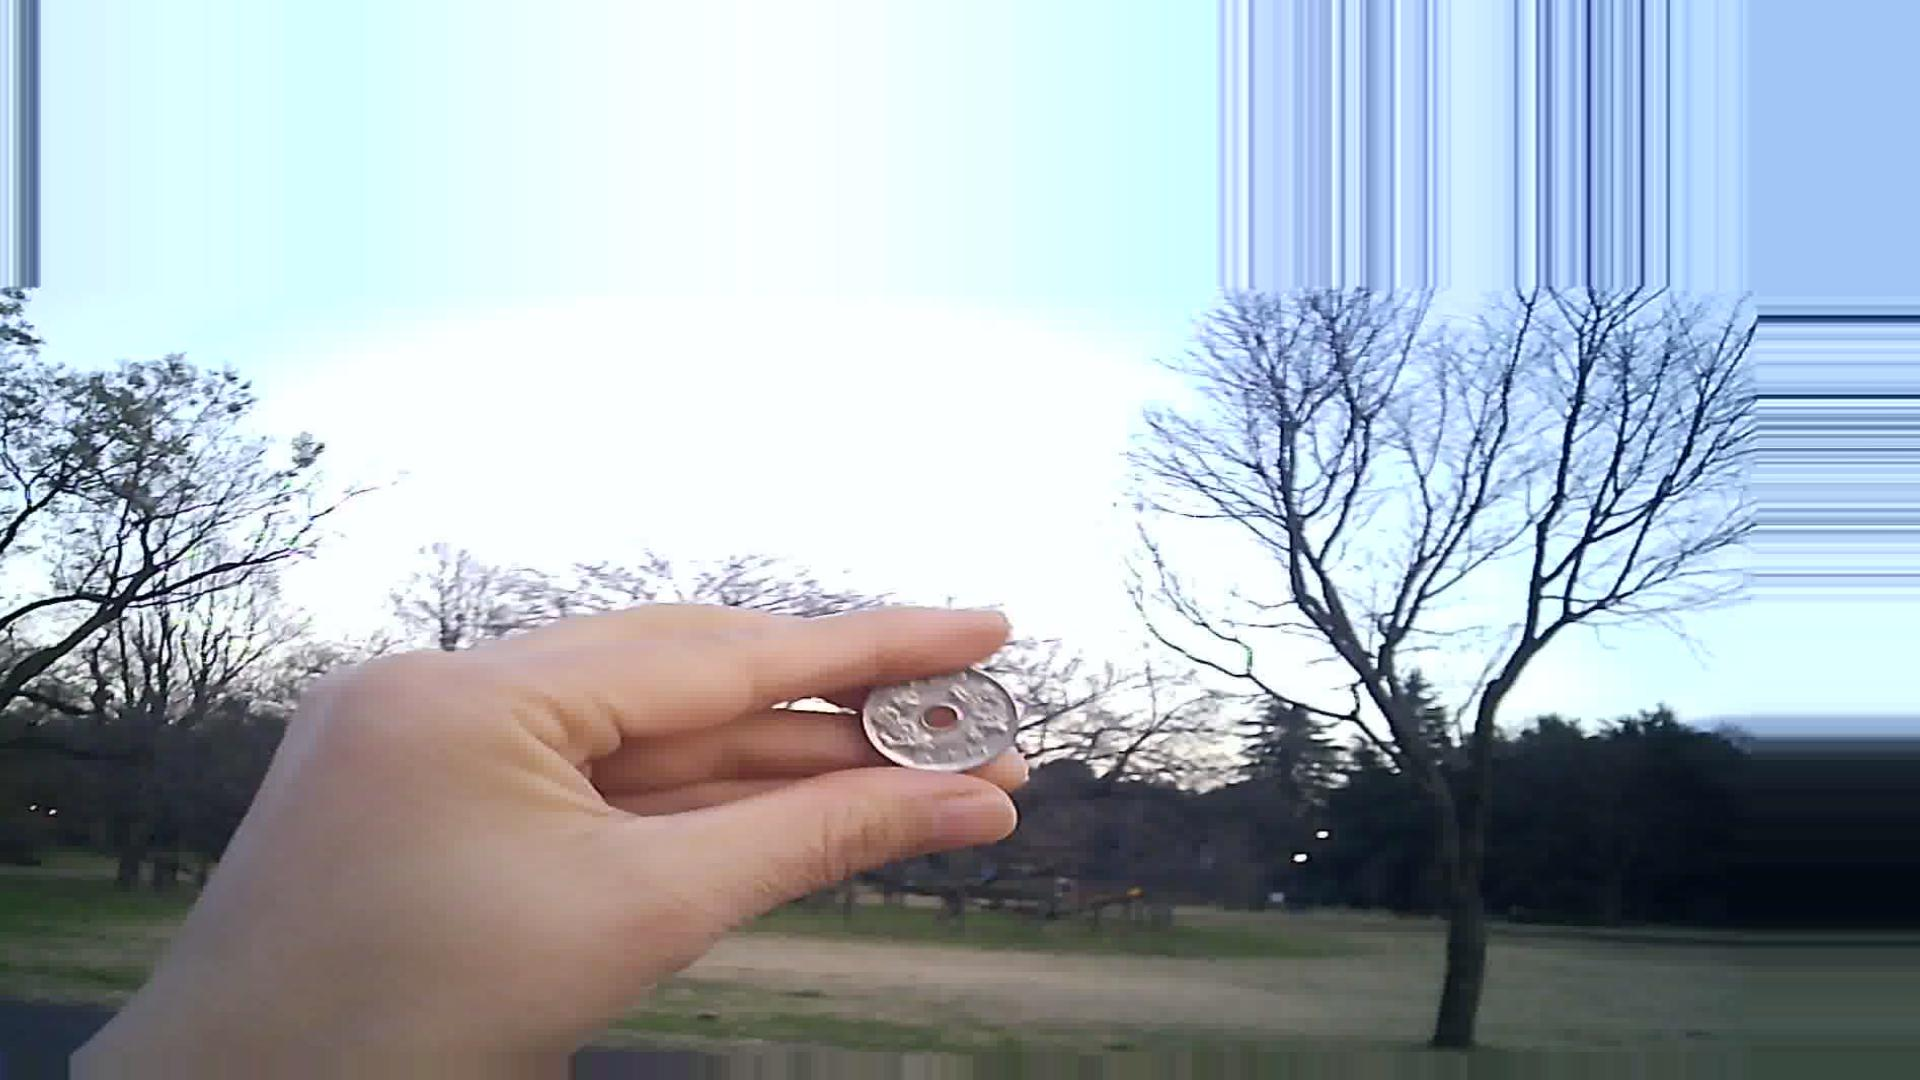50 Yen: (858, 649, 1025, 789)
